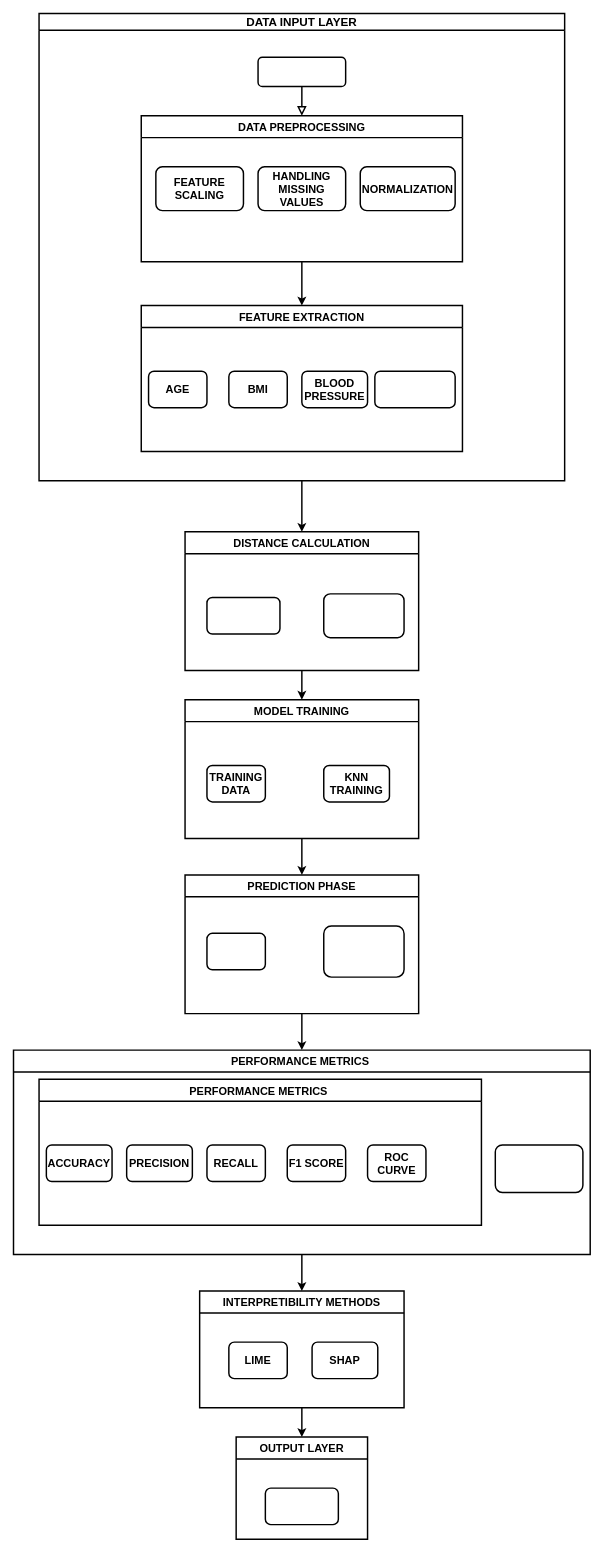
The diagram is 603 pixels wide and 1552 high, and some of its shapes have lost their labels. Each missing label, with the centre of its shape:
"CHOLESTROL LEVELS" belongs at point (415, 389).
"K- NEAREST NEIGHBOUR SEARCH" belongs at point (363, 951).
"MINKOWSKI DISTANCE" belongs at point (243, 615).
"NEAREST NEIGHBOURS" belongs at point (363, 615).
"PREDICTION" belongs at point (301, 1506).
"RFMID DATASET" belongs at point (301, 71).
"TEST DATA" belongs at point (236, 951).
"VISUALIZATION" belongs at point (538, 1168).
